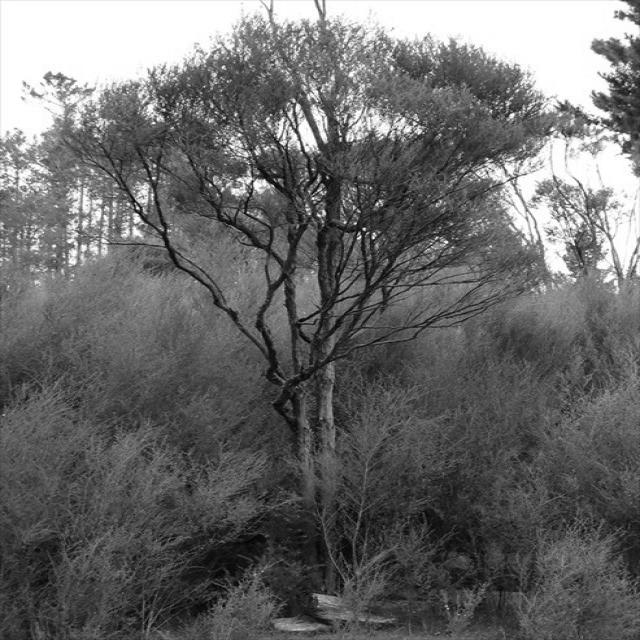Manuka: (48, 19, 584, 591)
